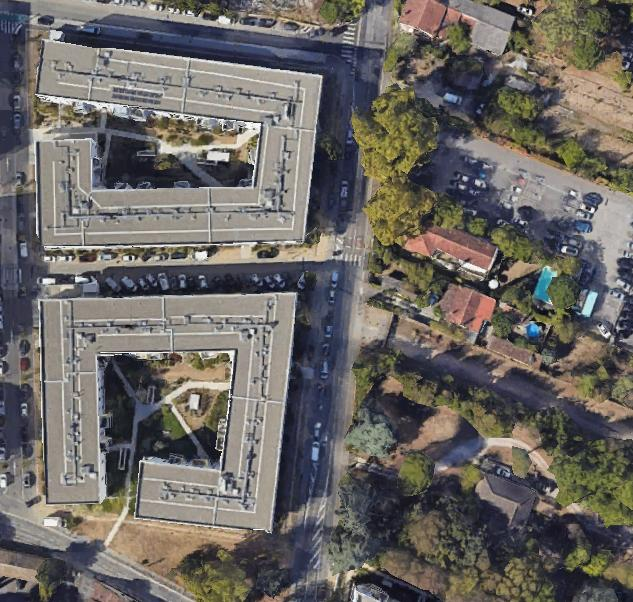immeuble: (20, 39, 324, 240), (36, 136, 308, 247), (40, 293, 298, 379), (214, 314, 295, 532), (40, 299, 110, 505), (130, 455, 277, 541)
maison: (395, 0, 515, 66), (403, 211, 499, 284), (462, 471, 537, 541), (434, 282, 497, 336)
